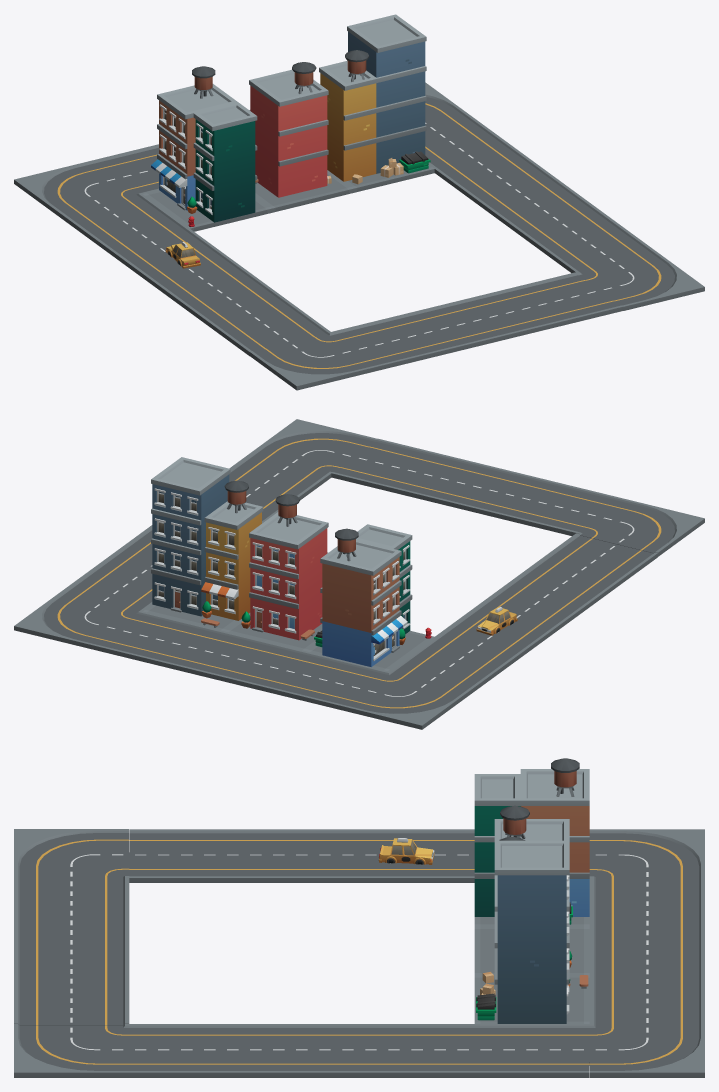
File: city.glb
3 renders of one model, top to bottom at view 1: azimuth 30°, elevation 25°; view 2: azimuth 150°, elevation 25°; view 3: azimuth 270°, elevation 25°, orthographic. The views are drawn at different scales.
Visible parts, largest first — view 1: building_H_Cube.001, building_G_Cube.001, building_C_Cube.001, road_corner_curved_Cube.002, road_straight_Cube.010, road_straight_Cube.008, road_straight_Cube.009, road_corner_curved_Cube.003, road_corner_curved_Cube.001, road_straight_Cube.011, road_straight_Cube.001, road_straight_Cube.004 (+8 smaller); view 2: building_H_Cube.001, building_G_Cube.001, building_C_Cube.001, road_corner_curved_Cube.001, road_straight_Cube.007, road_straight_Cube.009, road_straight_Cube.006, road_straight_Cube.005, road_straight_Cube.010, road_straight_Cube.008, road_corner_curved_Cube.004, road_corner_curved_Cube.002 (+9 smaller); view 3: building_H_Cube.001, building_G_Cube.001, road_straight_Cube.001, road_straight_Cube.003, road_straight_Cube.011, road_straight_Cube.012, road_straight_Cube.013, road_straight_Cube.014, road_corner_curved_Cube.003, road_corner_curved_Cube.004, road_corner_curved_Cube.001, road_corner_curved_Cube.002 (+9 smaller).
Boxes of the visible parts, bbox=[...] form: building_H_Cube.001: bbox=[319, 14, 434, 192]; building_G_Cube.001: bbox=[143, 66, 271, 231]; building_C_Cube.001: bbox=[249, 62, 353, 212]; road_corner_curved_Cube.002: bbox=[249, 332, 378, 390]; road_straight_Cube.010: bbox=[495, 272, 623, 330]; road_straight_Cube.008: bbox=[332, 312, 459, 370]; road_straight_Cube.009: bbox=[413, 292, 541, 350]; road_corner_curved_Cube.003: bbox=[577, 252, 704, 310]; road_corner_curved_Cube.001: bbox=[14, 159, 142, 217]; road_straight_Cube.011: bbox=[434, 149, 563, 207]; road_straight_Cube.001: bbox=[155, 263, 283, 321]; road_straight_Cube.004: bbox=[61, 194, 189, 252]; building_H_Cube.001: bbox=[143, 457, 263, 631]; building_G_Cube.001: bbox=[306, 524, 434, 670]; building_C_Cube.001: bbox=[224, 494, 328, 651]; road_corner_curved_Cube.001: bbox=[340, 671, 469, 729]; road_straight_Cube.007: bbox=[95, 611, 223, 669]; road_straight_Cube.009: bbox=[413, 458, 541, 517]; road_straight_Cube.006: bbox=[177, 631, 305, 689]; road_straight_Cube.005: bbox=[259, 651, 387, 709]; road_straight_Cube.010: bbox=[331, 438, 459, 497]; road_straight_Cube.008: bbox=[494, 478, 622, 535]; road_corner_curved_Cube.004: bbox=[14, 591, 142, 649]; road_corner_curved_Cube.002: bbox=[576, 498, 704, 556]; building_H_Cube.001: bbox=[474, 836, 589, 1023]; building_G_Cube.001: bbox=[474, 758, 589, 926]; road_straight_Cube.001: bbox=[244, 829, 359, 882]; road_straight_Cube.003: bbox=[129, 829, 244, 882]; road_straight_Cube.011: bbox=[359, 1024, 474, 1077]; road_straight_Cube.012: bbox=[244, 1024, 359, 1077]; road_straight_Cube.013: bbox=[474, 1024, 589, 1077]; road_straight_Cube.014: bbox=[129, 1024, 244, 1077]; road_corner_curved_Cube.003: bbox=[14, 1024, 129, 1077]; road_corner_curved_Cube.004: bbox=[589, 1024, 704, 1077]; road_corner_curved_Cube.001: bbox=[589, 829, 704, 879]; road_corner_curved_Cube.002: bbox=[14, 829, 129, 879].
Size of the model in its own units: 10 by 3.05 by 12.
Materials: 10 (10 with a texture image).
